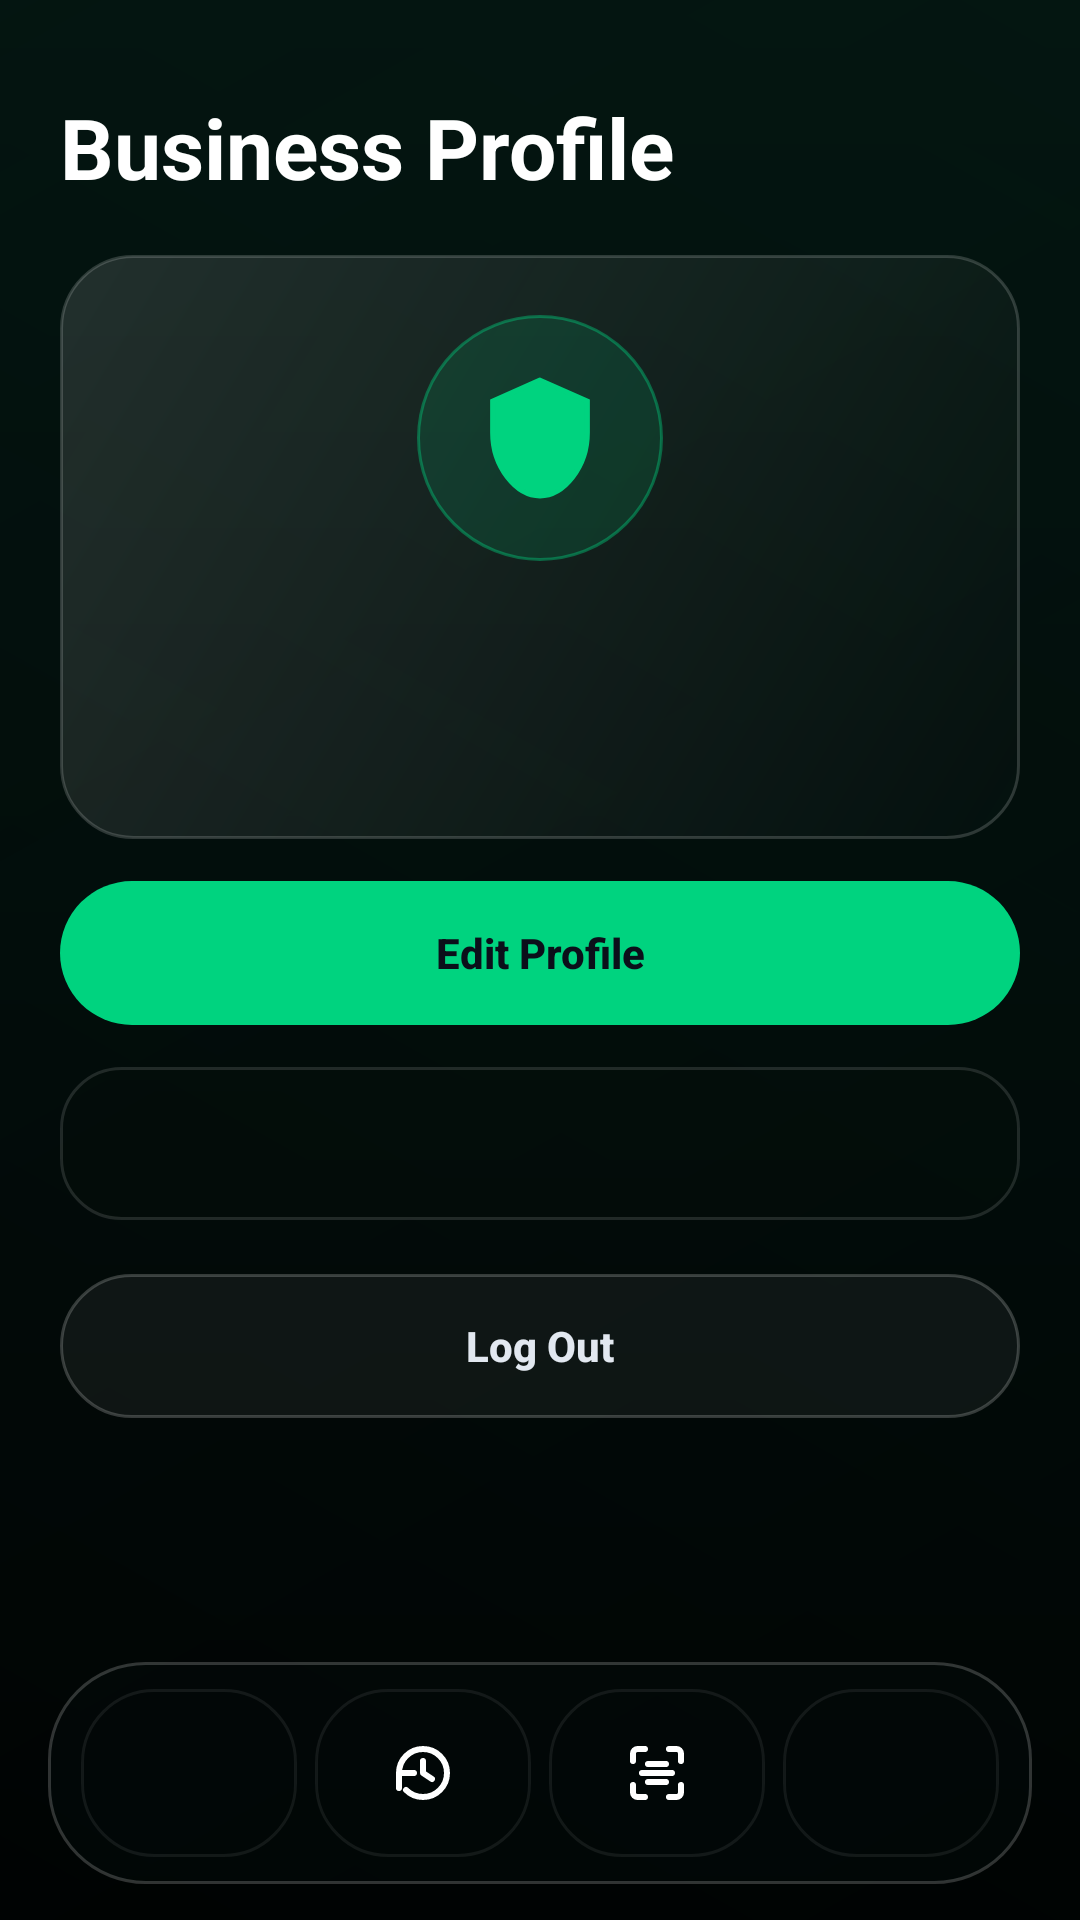

Named icons in this screenshot (1080 x 1920) and their bounding boxes, box(x1, y1, x2, y2):
history: box(396, 1746, 450, 1800)
scan: box(630, 1746, 684, 1800)
